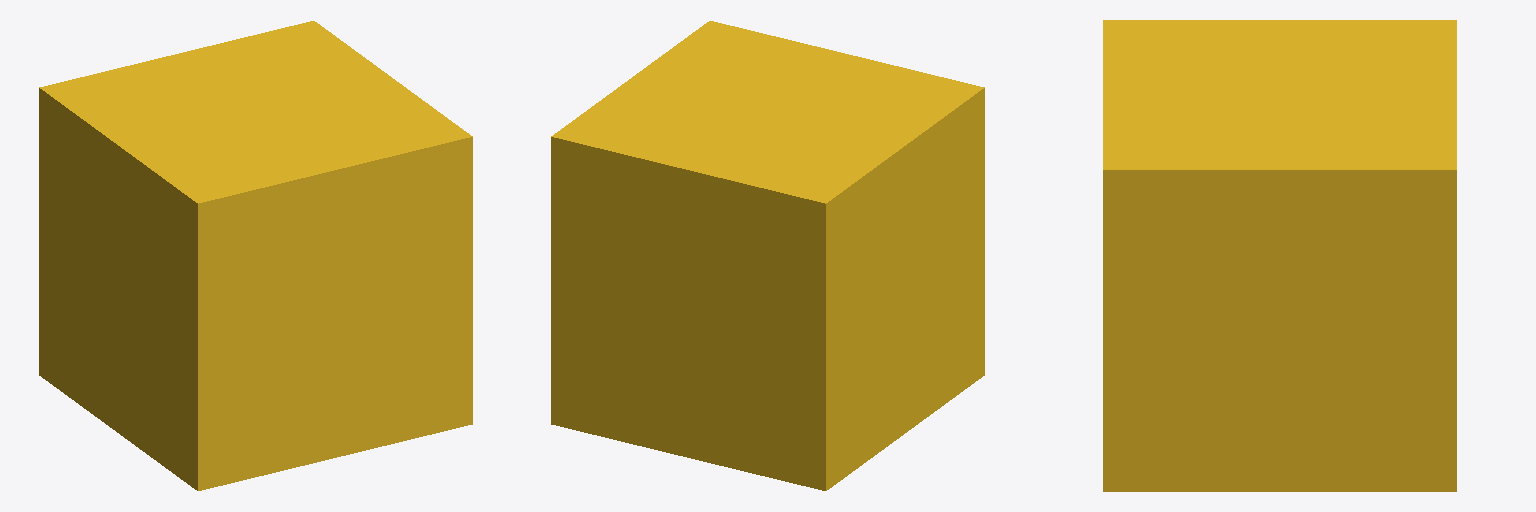
URDF robot description (block):
<?xml version="1.0" ?>
<!-- The object to be moved: a 50 mm cube, 0.2 kg, one link, no meshes.     -->
<!-- Units: metres, kilograms. Its own frame is at its geometric centre.    -->
<robot name="block">
  <link name="block">
    <visual>
      <origin rpy="0 0 0" xyz="0 0 0"/>
      <geometry><box size="0.05 0.05 0.05"/></geometry>
      <material name="mimosa"><color rgba="0.95 0.78 0.20 1"/></material>
    </visual>
    <collision>
      <origin rpy="0 0 0" xyz="0 0 0"/>
      <geometry><box size="0.05 0.05 0.05"/></geometry>
    </collision>
    <inertial>
      <origin rpy="0 0 0" xyz="0 0 0"/>
      <mass value="0.2"/>
      <inertia ixx="8.333e-05" ixy="0" ixz="0" iyy="8.333e-05" iyz="0"
               izz="8.333e-05"/>
    </inertial>
  </link>
</robot>

--- Render facts (derived) ---
Views: 3 orthographic renders of the robot side by side, from view 1: azimuth 30°, elevation 25°; view 2: azimuth 150°, elevation 25°; view 3: azimuth 270°, elevation 25°.
Robot: block — 1 links, 0 joints (none); root link block; default pose: every joint at zero.
Links seen in each view (by area): view 1: block; view 2: block; view 3: block.
Link boxes in pixels (left/top/right/bottom): block: left=39, top=21, right=472, bottom=490; block: left=551, top=21, right=984, bottom=490; block: left=1103, top=20, right=1456, bottom=491.
Size in the robot's own frame: 0.05 by 0.05 by 0.05 metres.
Geometry: primitives only (box / cylinder / sphere), no mesh files.
